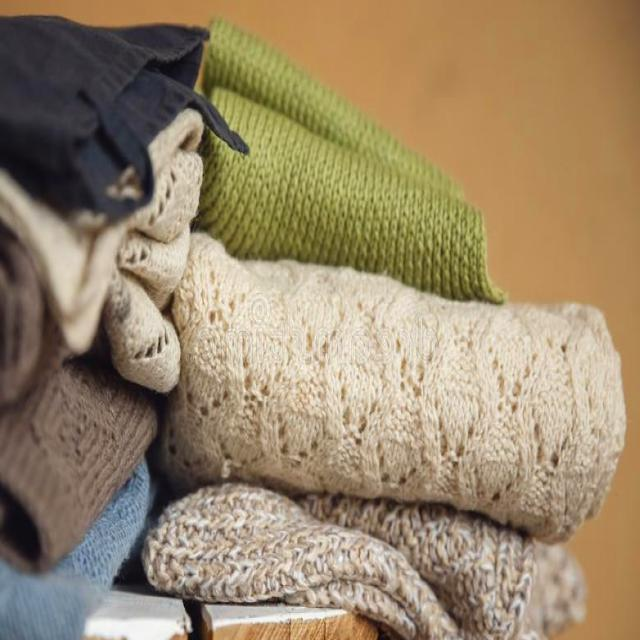clothes: (0, 26, 194, 632), (162, 305, 598, 508), (206, 28, 485, 318), (139, 538, 581, 640)
